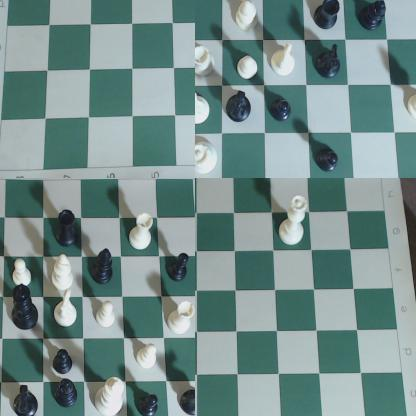black-bishop: (362, 1, 392, 40), (92, 246, 117, 287), (55, 379, 81, 412)
black-king: (10, 285, 42, 335)
black-knight: (9, 381, 45, 416), (314, 44, 345, 82), (226, 91, 255, 123), (182, 381, 195, 416)
black-pawn: (169, 253, 195, 287), (315, 148, 344, 178), (53, 349, 78, 377), (267, 99, 293, 125), (138, 392, 164, 416)
black-rook: (55, 207, 79, 249), (314, 1, 343, 33)
white-bishop: (236, 1, 264, 38), (52, 255, 79, 293), (405, 89, 416, 121)
white-king: (93, 378, 126, 416)
white-knight: (269, 44, 299, 78), (55, 292, 78, 329), (196, 90, 214, 127)
white-pawn: (10, 255, 34, 288), (93, 301, 117, 331), (238, 55, 261, 81), (139, 344, 158, 373)
white-queen: (278, 191, 310, 246), (196, 138, 221, 178)
white-rook: (127, 212, 154, 254), (169, 301, 195, 339), (196, 43, 217, 80)
